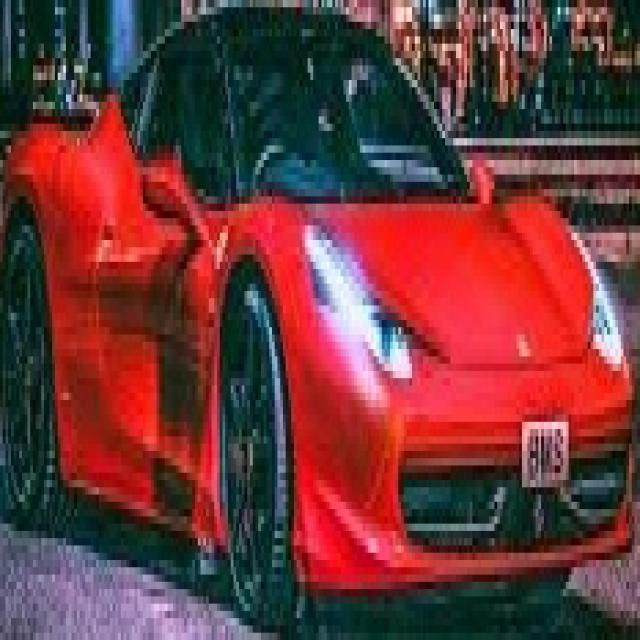red: (0, 35, 640, 580)
